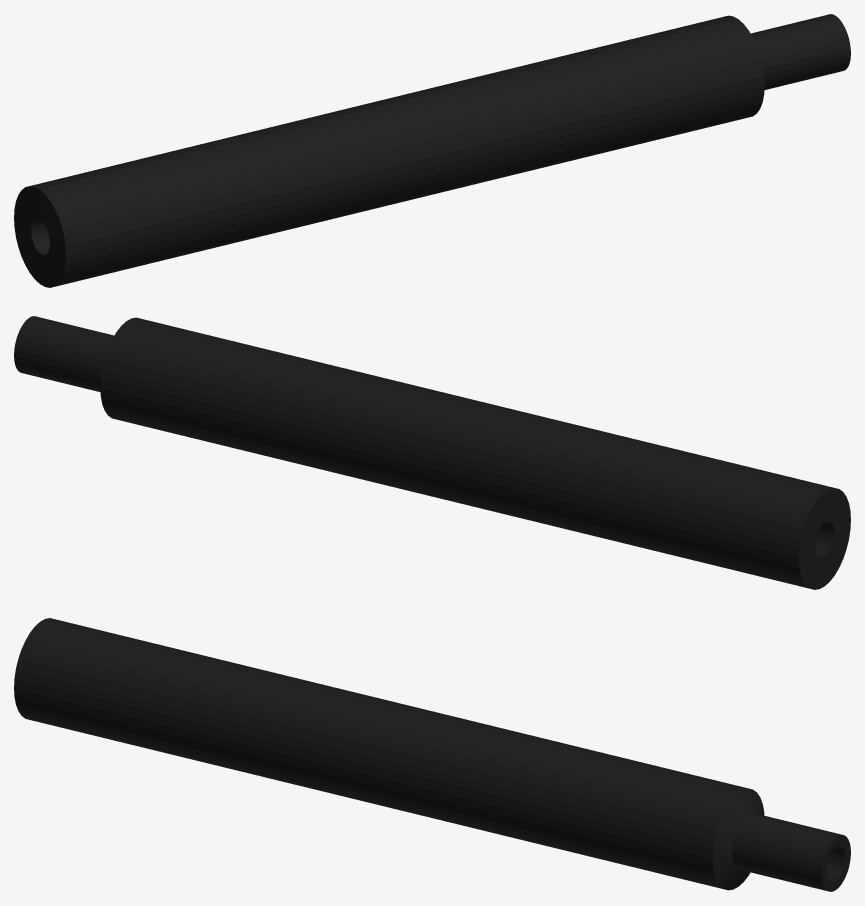
Rendered from SuppresorStock.fbx.
3 renders of one model, top to bottom at view 1: azimuth 30°, elevation 25°; view 2: azimuth 150°, elevation 25°; view 3: azimuth 330°, elevation 25°, orthographic.
Visible parts, largest first — view 1: Cylinder.001; view 2: Cylinder.001; view 3: Cylinder.001.
Boxes of the visible parts, bbox=[...] form: Cylinder.001: bbox=[14, 14, 850, 287]; Cylinder.001: bbox=[14, 316, 850, 589]; Cylinder.001: bbox=[14, 618, 850, 891].
Size of the model in its own units: 14.51 by 1.65 by 1.65.
